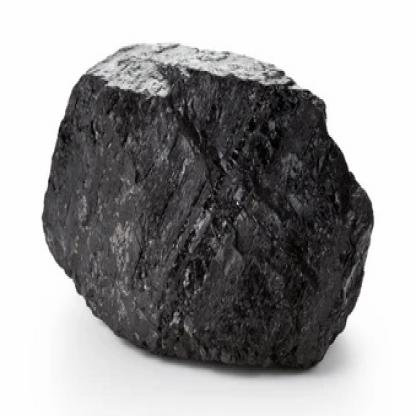Sedimentary_coal: (29, 41, 388, 385)
